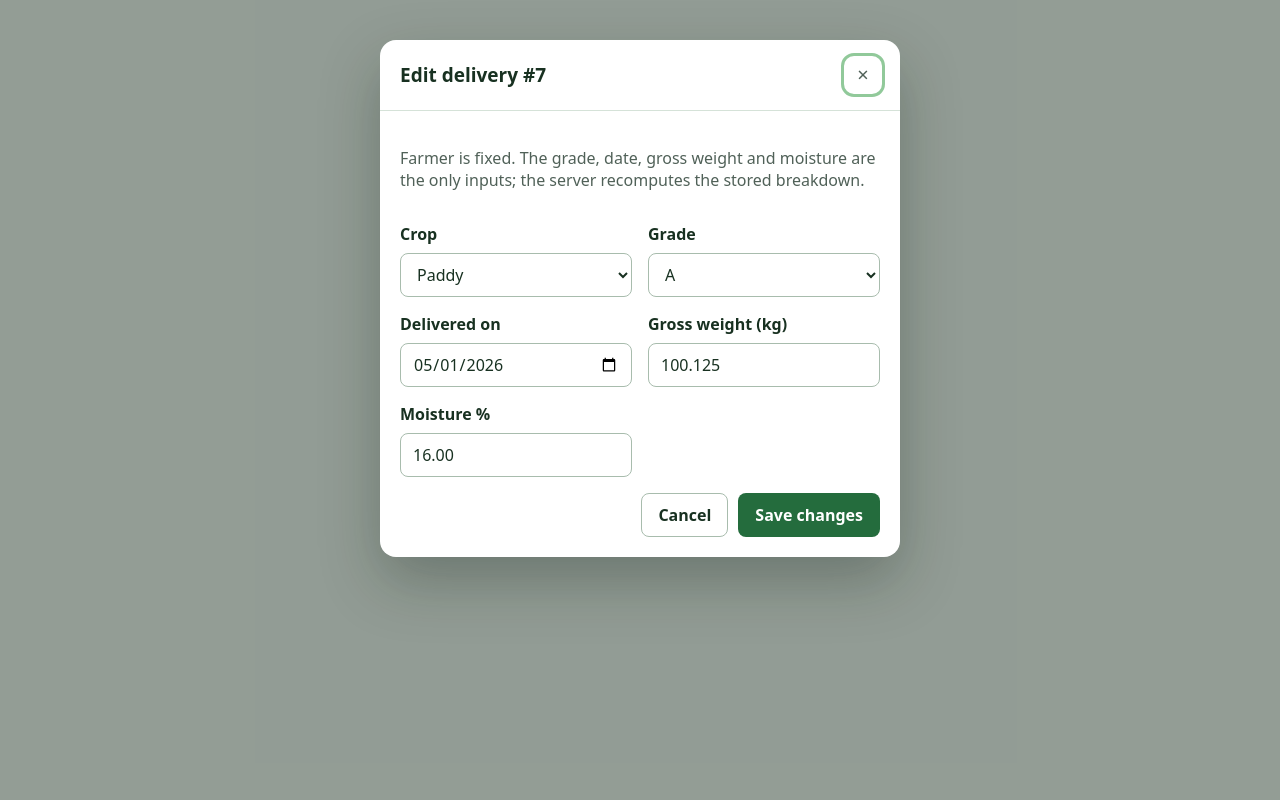
DeliveryEditForm › keeps the inputs when the server rejects the edit
Type "111.000" into the field labelled "Gross weight (kg)" at coordinates (764, 365), box left=648, top=343, right=880, bottom=387
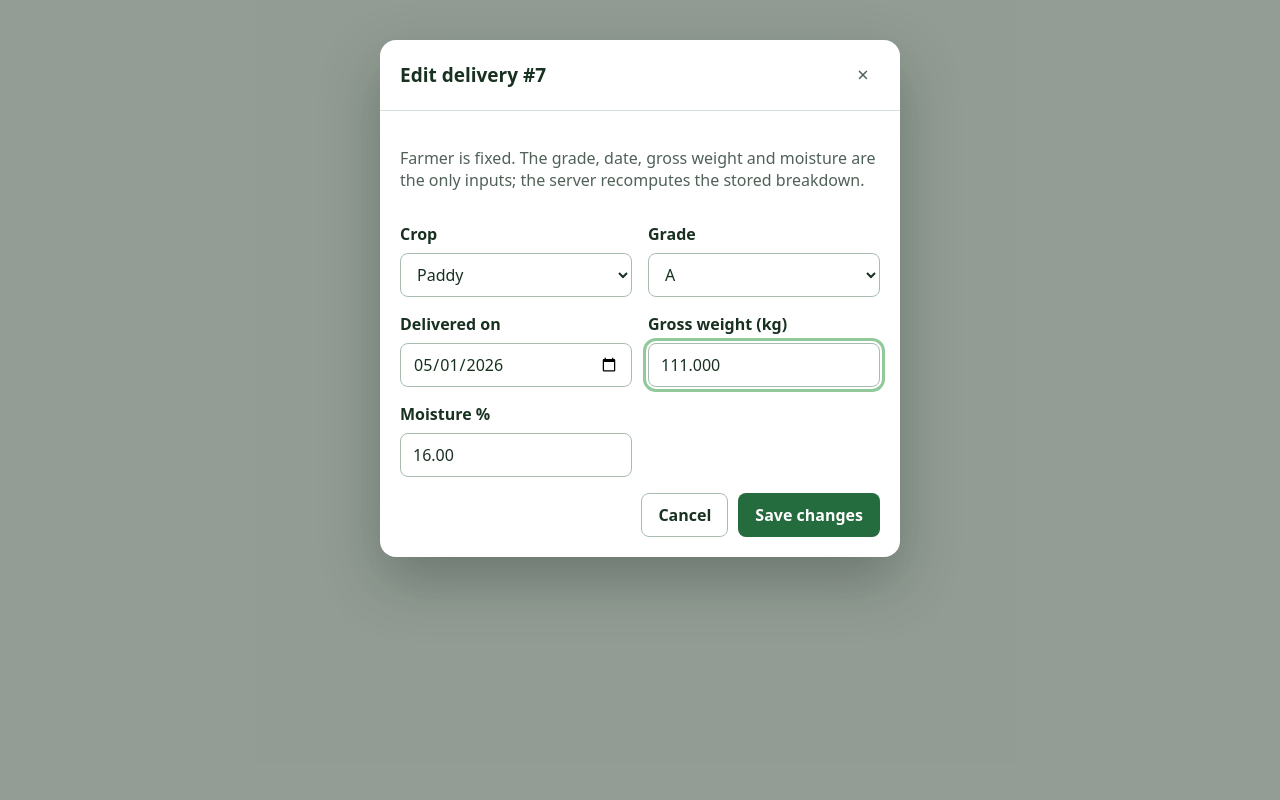
Click the button "Save changes" at coordinates (809, 515), box left=738, top=493, right=880, bottom=537
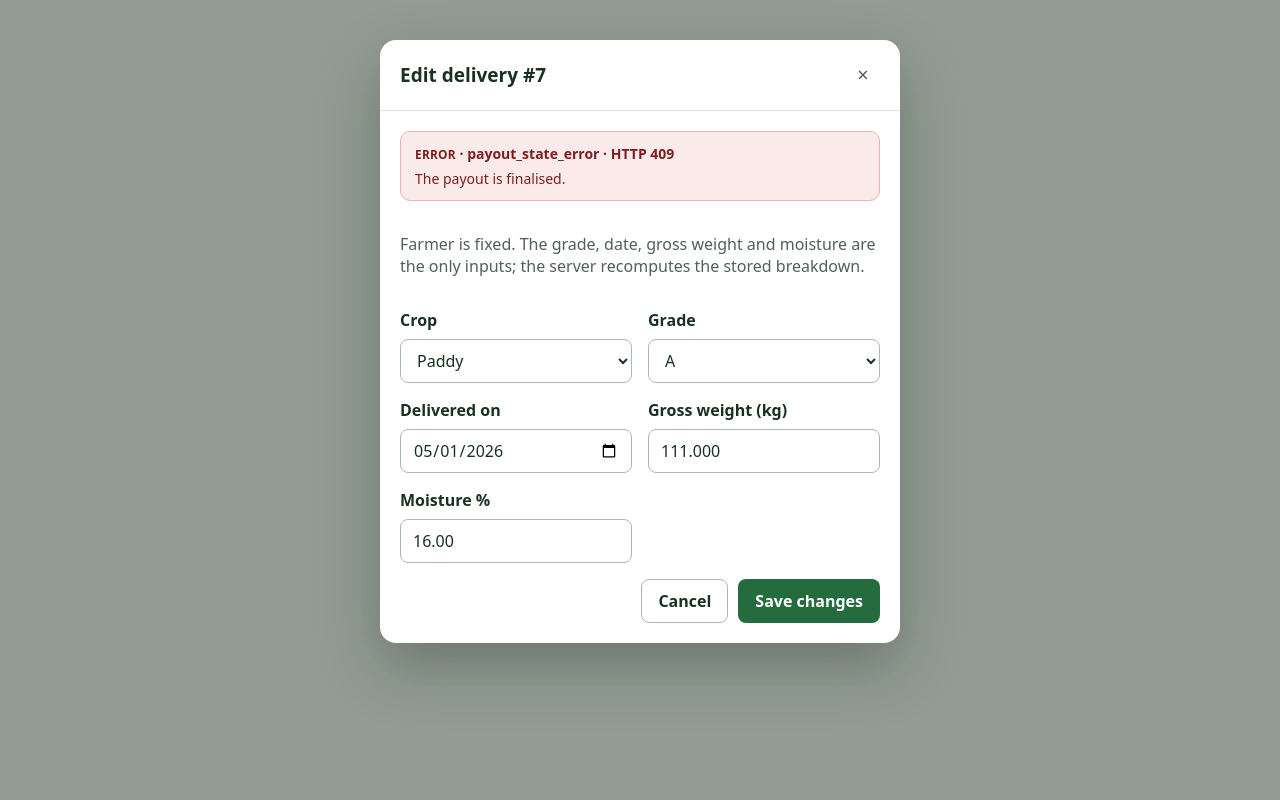
Check: the text "The payout is finalised." is shown, box left=415, top=169, right=566, bottom=188
